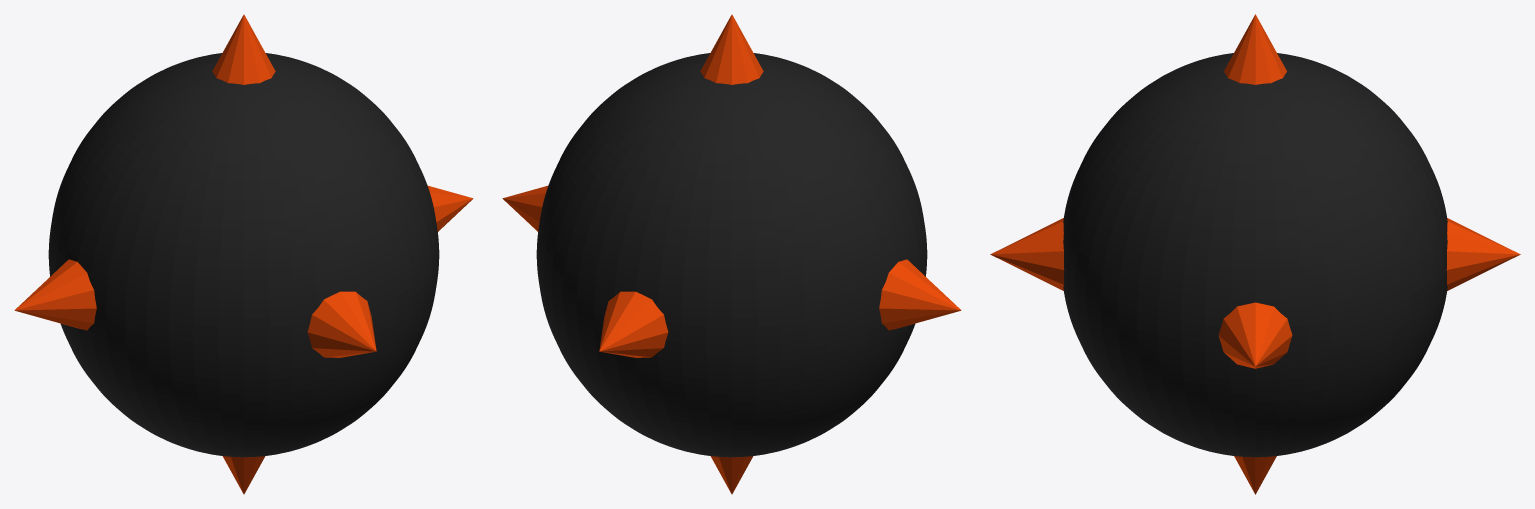
Rendered from BolaPinchos.fbx.
3 renders of one model, left to right at view 1: azimuth 30°, elevation 25°; view 2: azimuth 150°, elevation 25°; view 3: azimuth 270°, elevation 25°, orthographic.
Visible parts, largest first — view 1: Ball; view 2: Ball; view 3: Ball.
Boxes of the visible parts, x1,y1,x2,y2 form: Ball: [14, 14, 473, 494]; Ball: [502, 14, 961, 494]; Ball: [990, 14, 1520, 494].
Size of the model in its own units: 258 by 258 by 258.
